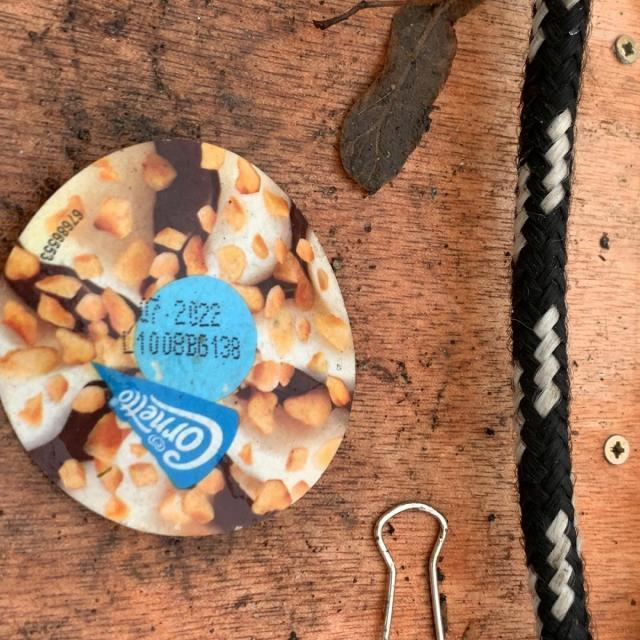Paper: (0, 130, 358, 543)
